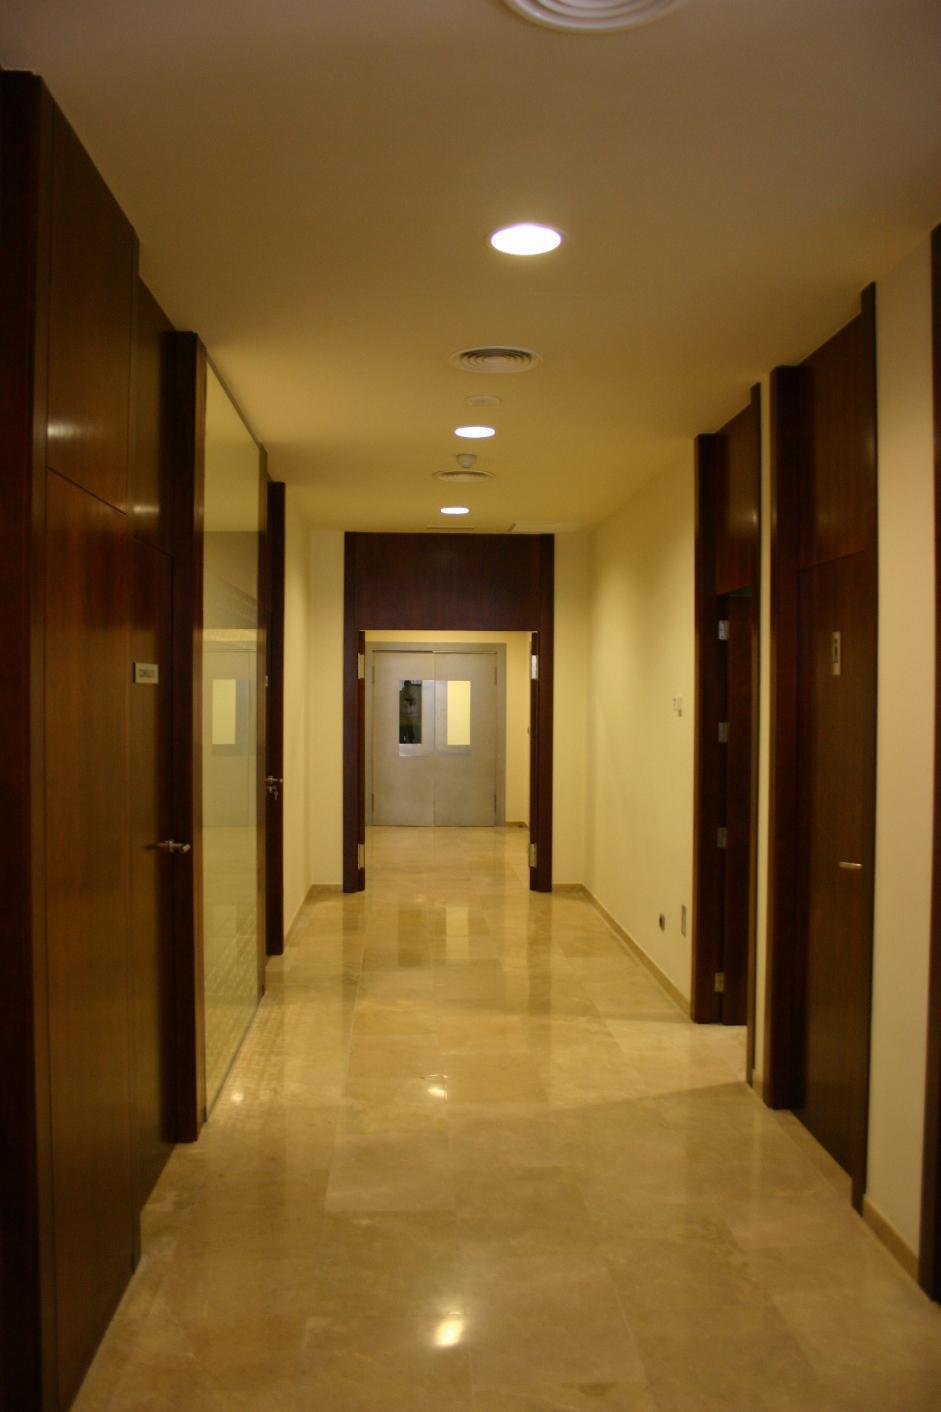Puerta: (779, 378, 866, 1169), (147, 570, 195, 1140), (703, 602, 753, 1011)
